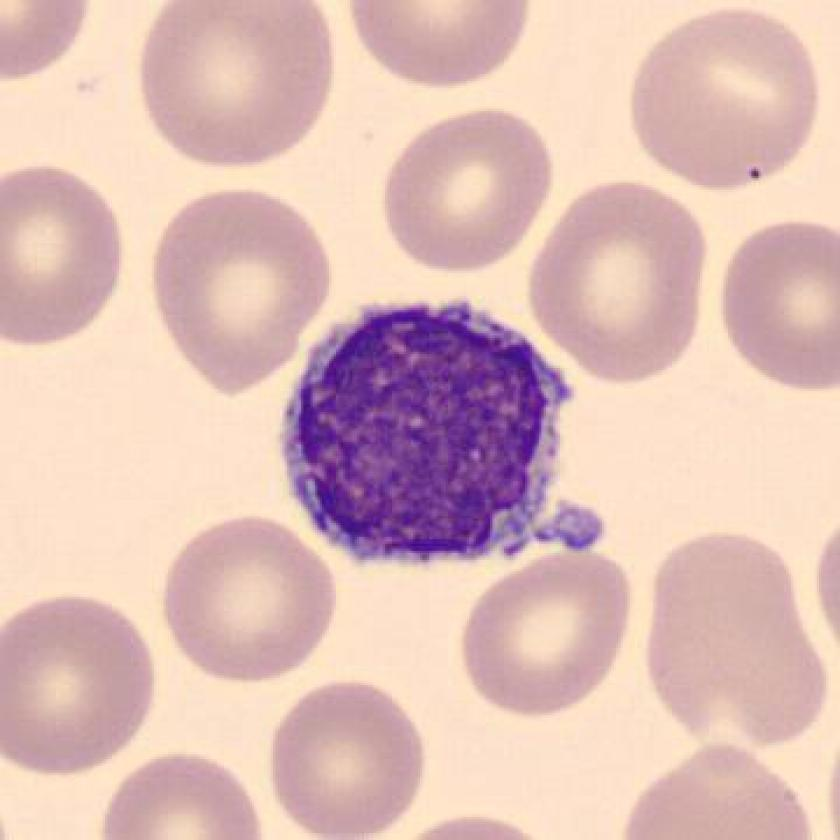lymphocyte: (258, 284, 591, 594)
